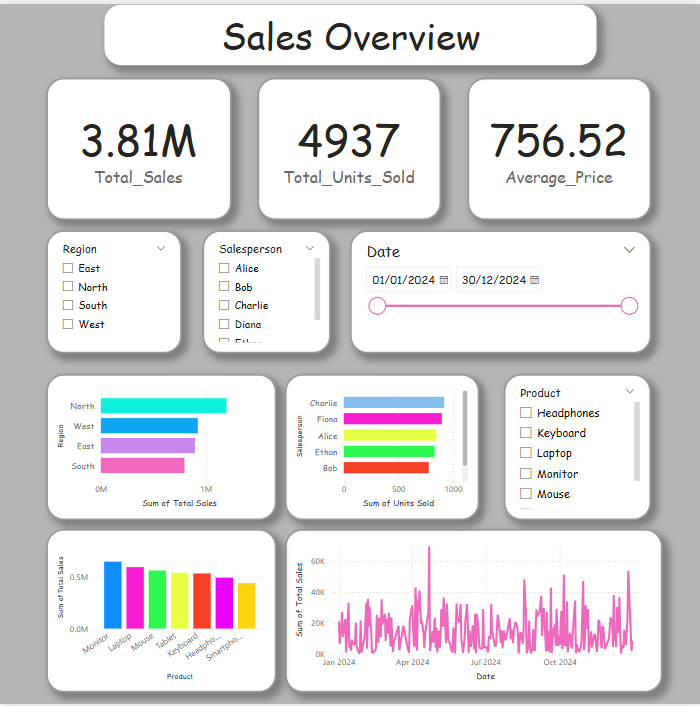

The page's visual inventory and layout, read from the dashboard file:
{"tool":"powerbi","page":{"name":"Page 1","canvas":[1000,1000],"ordinal":0},"visuals":[{"type":"card","fields":{"Values":["mock_sales_data.Total_Sales"]},"box":[66.1,105.1,264.4,203.4],"z":0},{"type":"card","fields":{"Values":["mock_sales_data.Total_Units_Sold"]},"box":[367.8,105.1,262.7,203.4],"z":1000},{"type":"card","fields":{"Values":["mock_sales_data.Average_Price"]},"box":[667.8,105.1,262.7,203.4],"z":2000},{"type":"slicer","fields":{"Values":["mock_sales_data.Region"]},"box":[66.1,323.7,193.2,176.3],"z":3000},{"type":"slicer","fields":{"Values":["mock_sales_data.Product"]},"box":[720.3,528.8,210.2,208.5],"z":4000},{"type":"slicer","fields":{"Values":["mock_sales_data.Salesperson"]},"box":[289.8,323.7,183.1,176.3],"z":5000},{"type":"barChart","fields":{"Y":["Sum(mock_sales_data.Total Sales)"],"Category":["mock_sales_data.Region"]},"box":[66.1,528.8,328.8,208.5],"z":6000},{"type":"lineChart","fields":{"Y":["Sum(mock_sales_data.Total Sales)"],"Category":["mock_sales_data.Date"]},"box":[406.8,750.8,539,233.9],"z":7000},{"type":"slicer","fields":{"Values":["mock_sales_data.Date"]},"box":[500,323.7,430.5,176.3],"z":8000},{"type":"columnChart","fields":{"Y":["Sum(mock_sales_data.Total Sales)"],"Category":["mock_sales_data.Product"]},"box":[66.1,750.8,328.8,233.9],"z":9000},{"type":"barChart","fields":{"Y":["Sum(mock_sales_data.Units Sold)"],"Category":["mock_sales_data.Salesperson"]},"box":[406.8,528.8,278,208.5],"z":10000},{"type":"textbox","title":"Sales Overview","box":[1142.5,88.1,108.6,63.9],"z":11000},{"type":"textbox","title":"Sales Overview","box":[147.5,0,705.1,88.1],"z":12000}]}

Visuals, with their boxes in screenshot pixels (x1, y1, x2, y2), scaled from the page's 1000x1000 canvas onto the 700x706 screenshot:
card - mock_sales_data.Total_Sales: BBox(46, 74, 231, 218)
card - mock_sales_data.Total_Units_Sold: BBox(257, 74, 441, 218)
card - mock_sales_data.Average_Price: BBox(467, 74, 651, 218)
slicer - mock_sales_data.Region: BBox(46, 229, 182, 353)
slicer - mock_sales_data.Product: BBox(504, 373, 651, 521)
slicer - mock_sales_data.Salesperson: BBox(203, 229, 331, 353)
barChart - Sum(mock_sales_data.Total Sales) x mock_sales_data.Region: BBox(46, 373, 276, 521)
lineChart - Sum(mock_sales_data.Total Sales) x mock_sales_data.Date: BBox(285, 530, 662, 695)
slicer - mock_sales_data.Date: BBox(350, 229, 651, 353)
columnChart - Sum(mock_sales_data.Total Sales) x mock_sales_data.Product: BBox(46, 530, 276, 695)
barChart - Sum(mock_sales_data.Units Sold) x mock_sales_data.Salesperson: BBox(285, 373, 479, 521)
"Sales Overview" textbox: BBox(103, 0, 597, 62)
